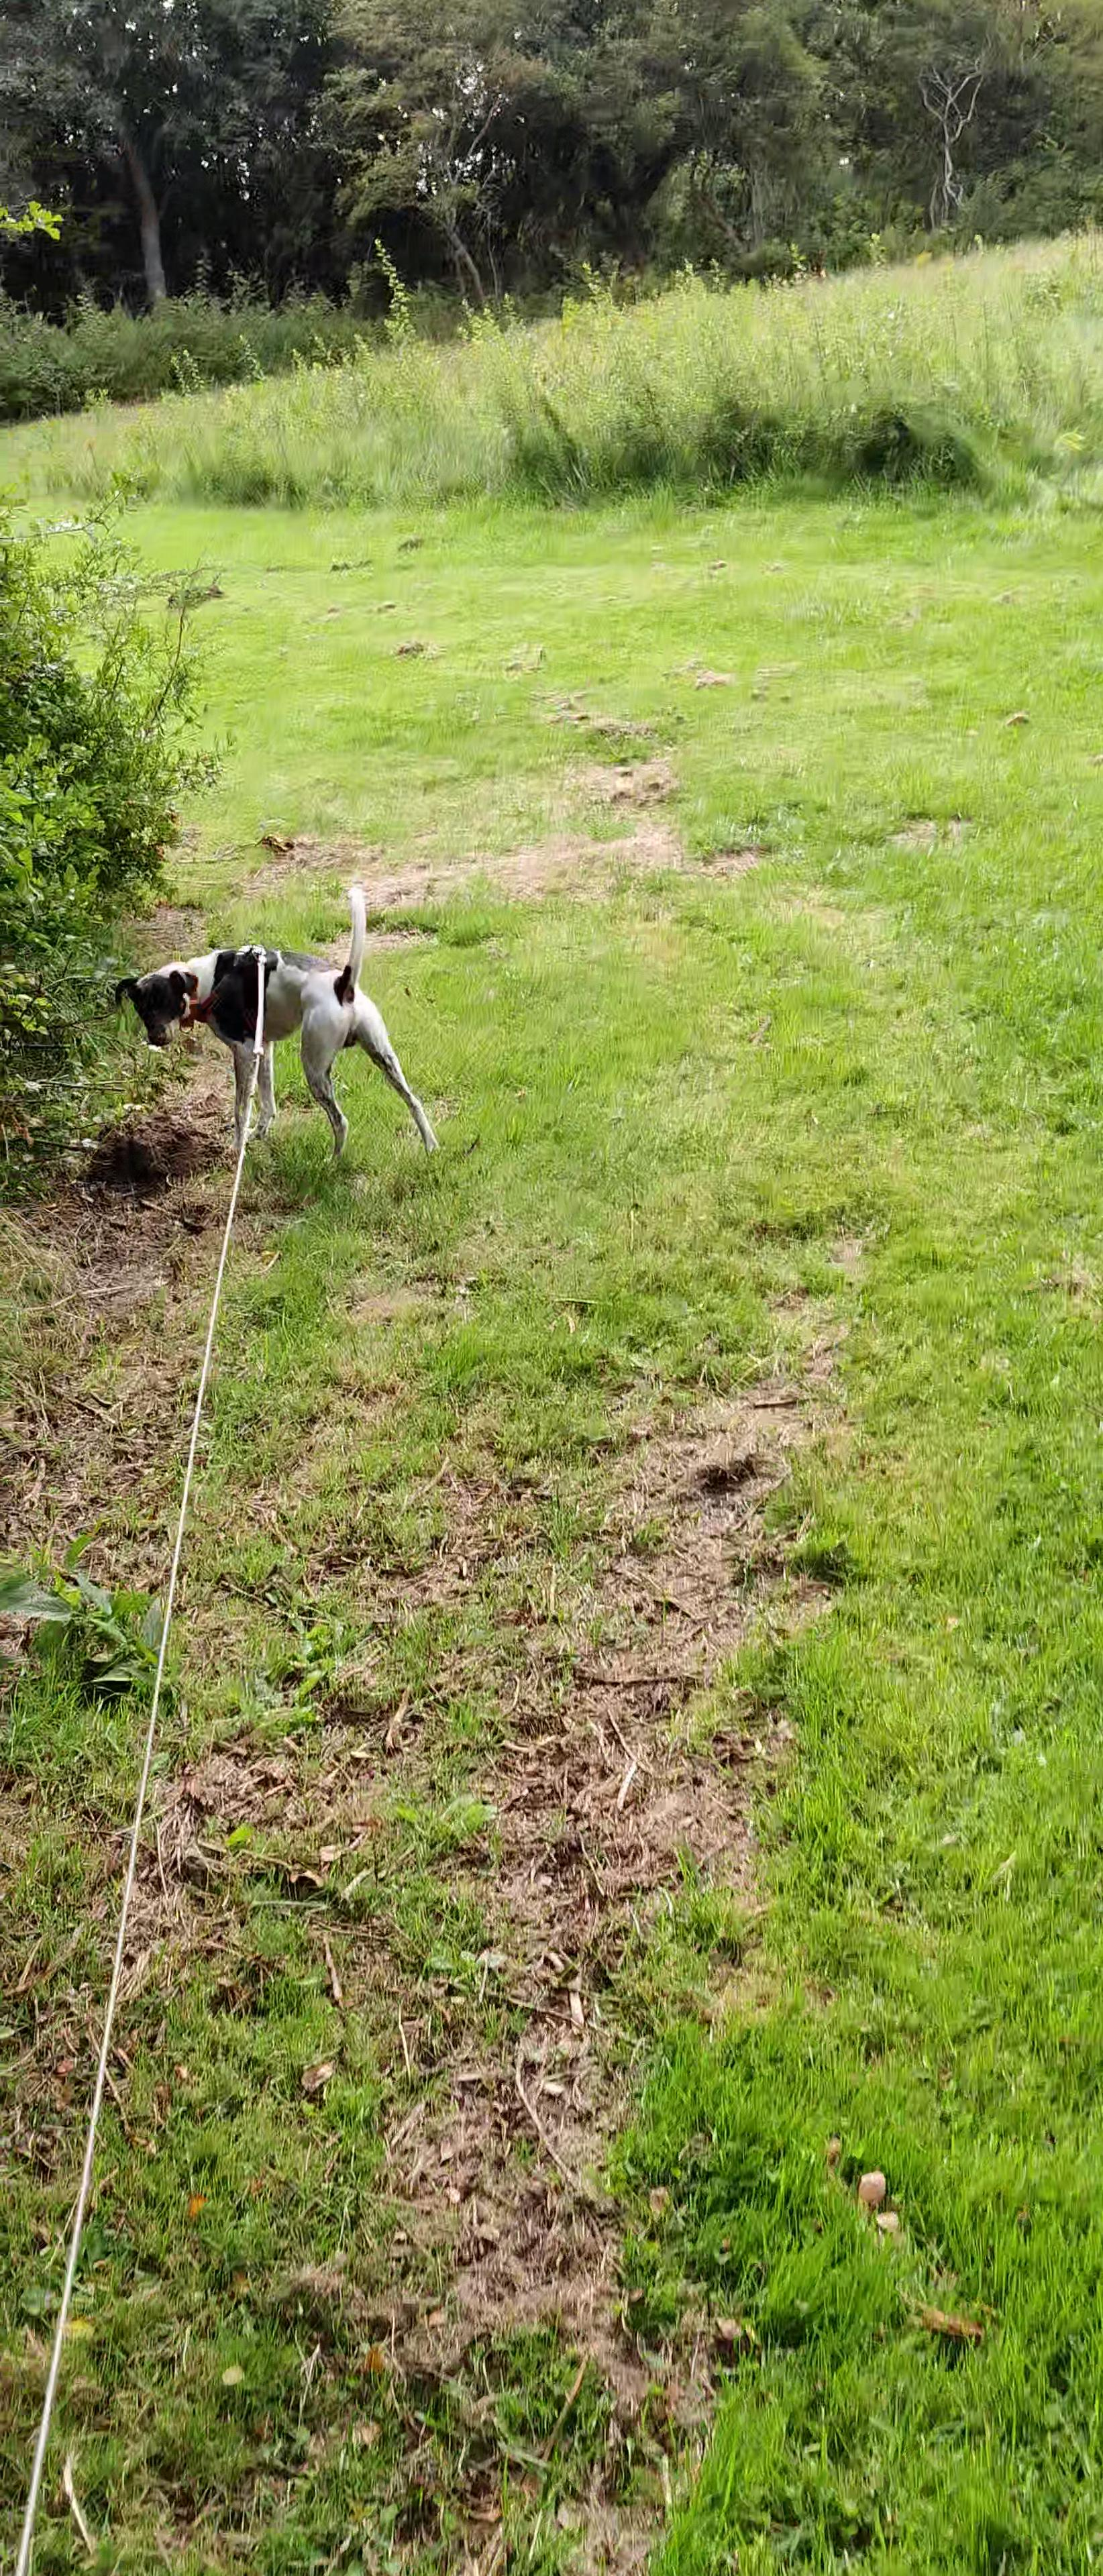Dog: (110, 882, 441, 1165)
